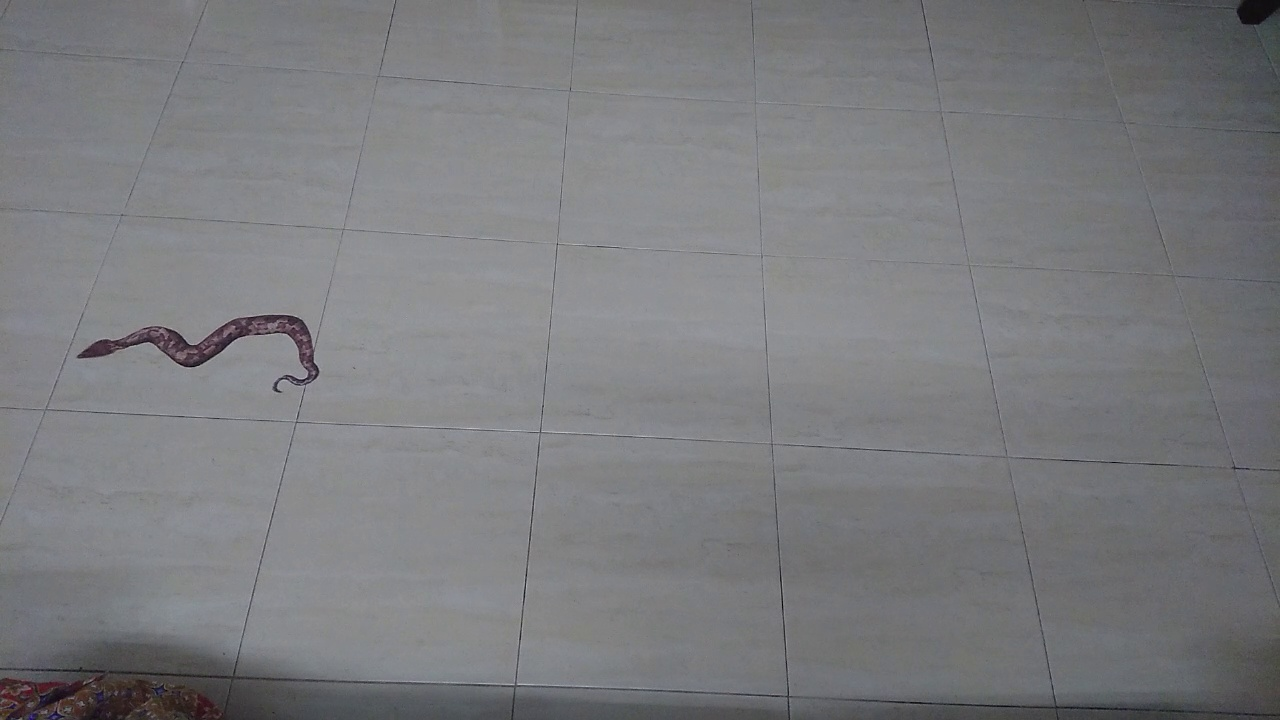snake: (51, 293, 337, 407)
